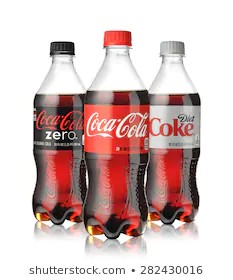coke-bottle-700ml: (80, 29, 148, 241)
coke-diet/zero-bottle-700ml: (30, 40, 84, 230), (148, 36, 200, 223)
